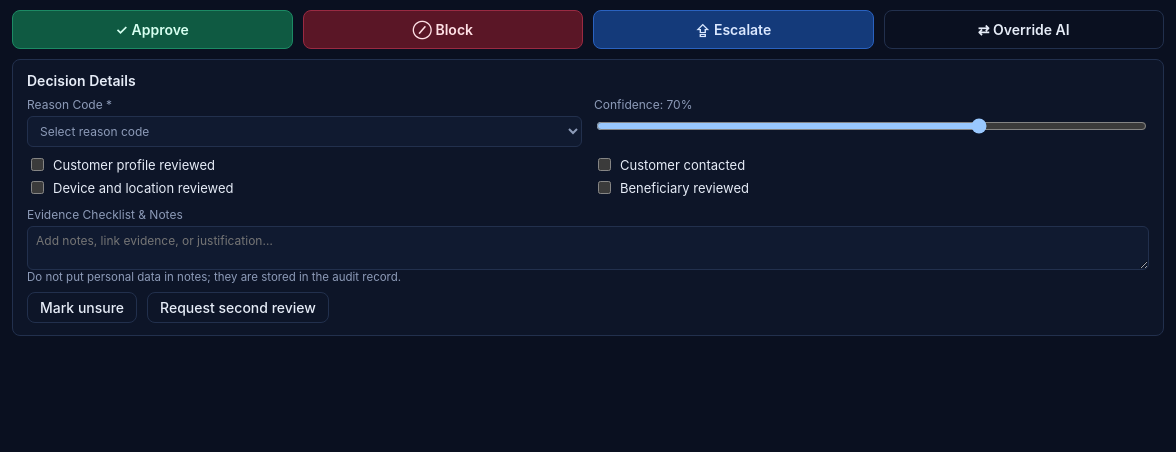
it: ActionPanel › submits an agreeing decision without a reason code
This screenshot has width=1176, height=452.
Step 1. Click the button "✓ Approve" → (152, 30), box [12, 10, 292, 49]
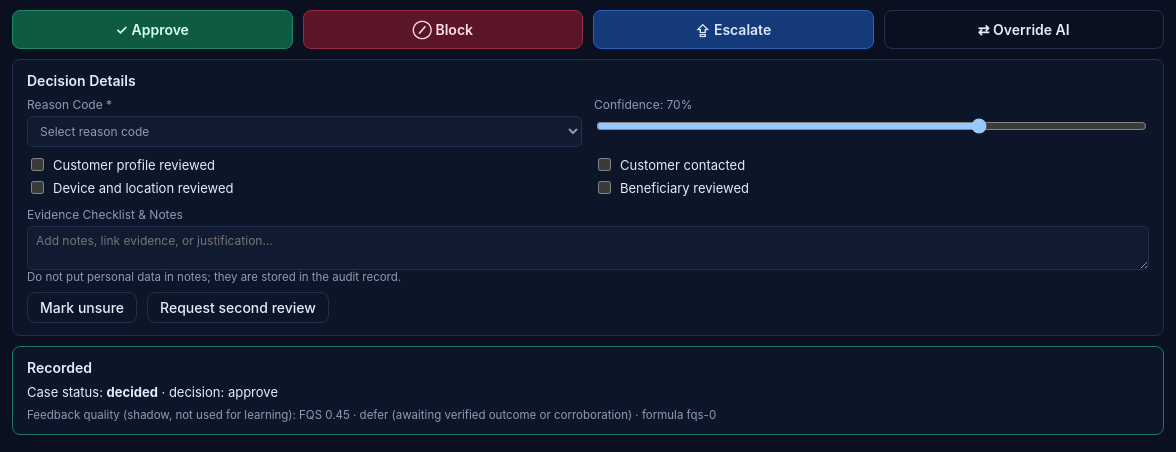
Expected: the message with test id "action-result" shows "Case status: decided", [12, 346, 1164, 435]
Expected: the message with test id "action-result" shows "shadow, not used for learning", [27, 408, 325, 422]
